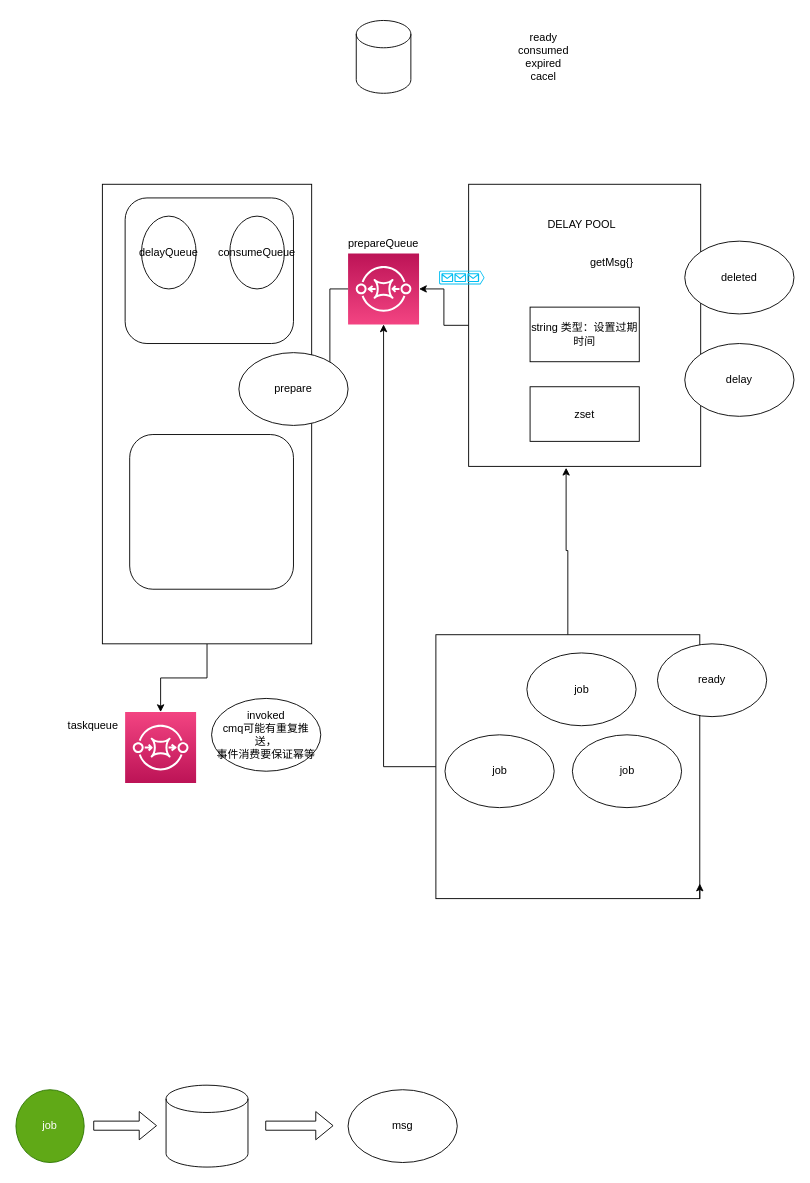
This 810x1183 diagram has some shape labels left out. The centre of each missing label's shape, as x and y in pixels:
"logs" goes at (383,56).
"redis/lrange" goes at (206,1125).
